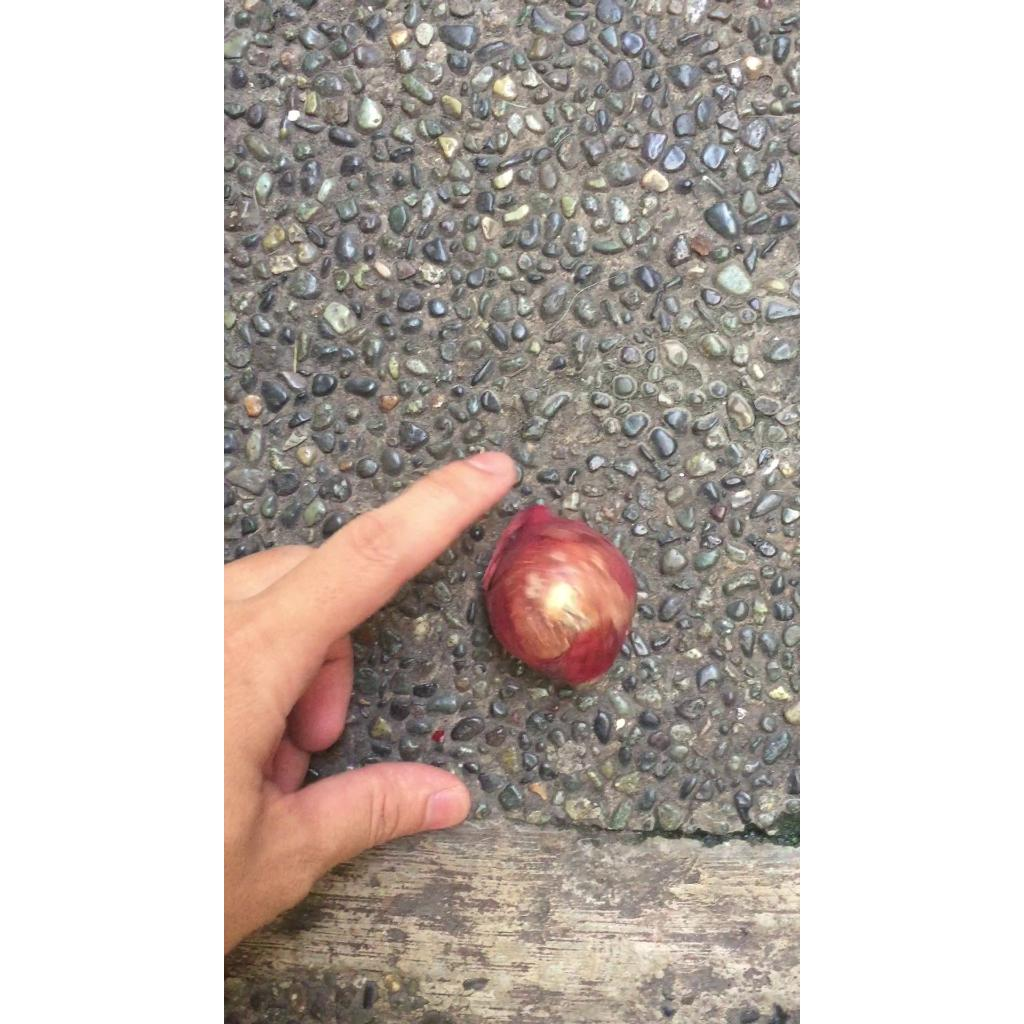Onion: (482, 506, 636, 686)
